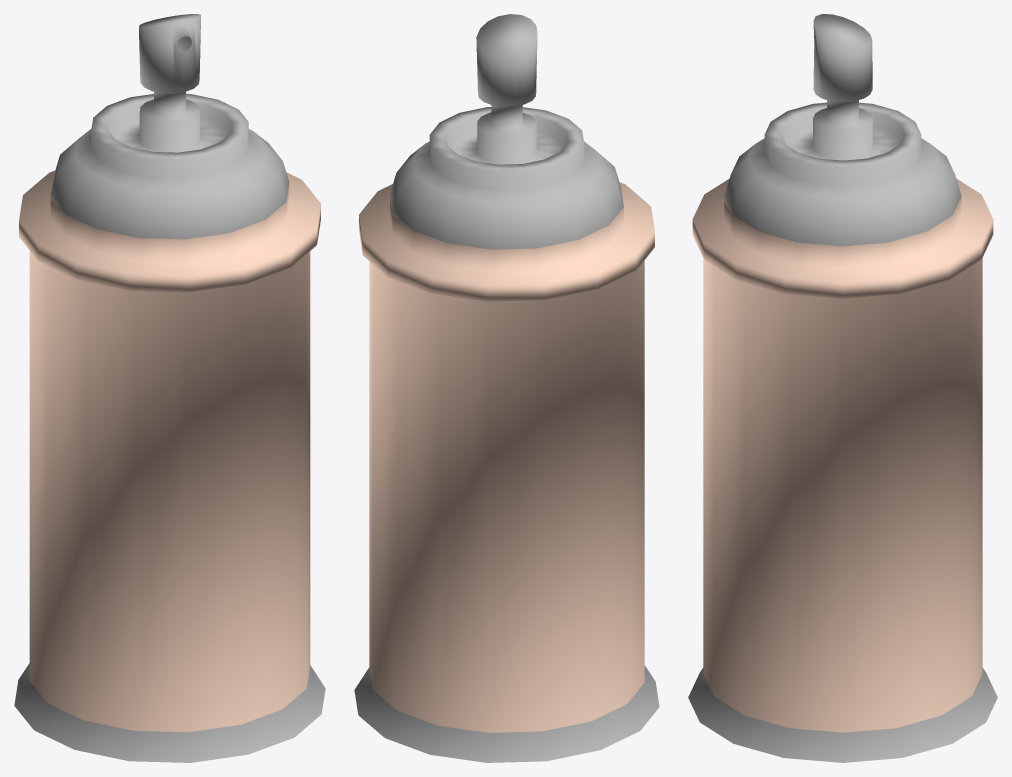
File: lata.glb
3 renders of one model, left to right at view 1: azimuth 30°, elevation 25°; view 2: azimuth 150°, elevation 25°; view 3: azimuth 270°, elevation 25°, orthographic. The views are drawn at different scales.
Visible parts, largest first — view 1: Lata aerosol; view 2: Lata aerosol; view 3: Lata aerosol.
Part boxes in pixels (x1,y1,x2,y2): Lata aerosol: (14,14,325,762); Lata aerosol: (354,14,659,762); Lata aerosol: (688,14,997,762).
Bounding box in the file's own units: 1.45 × 3.5 × 1.45.
2 materials, 1 textured.
